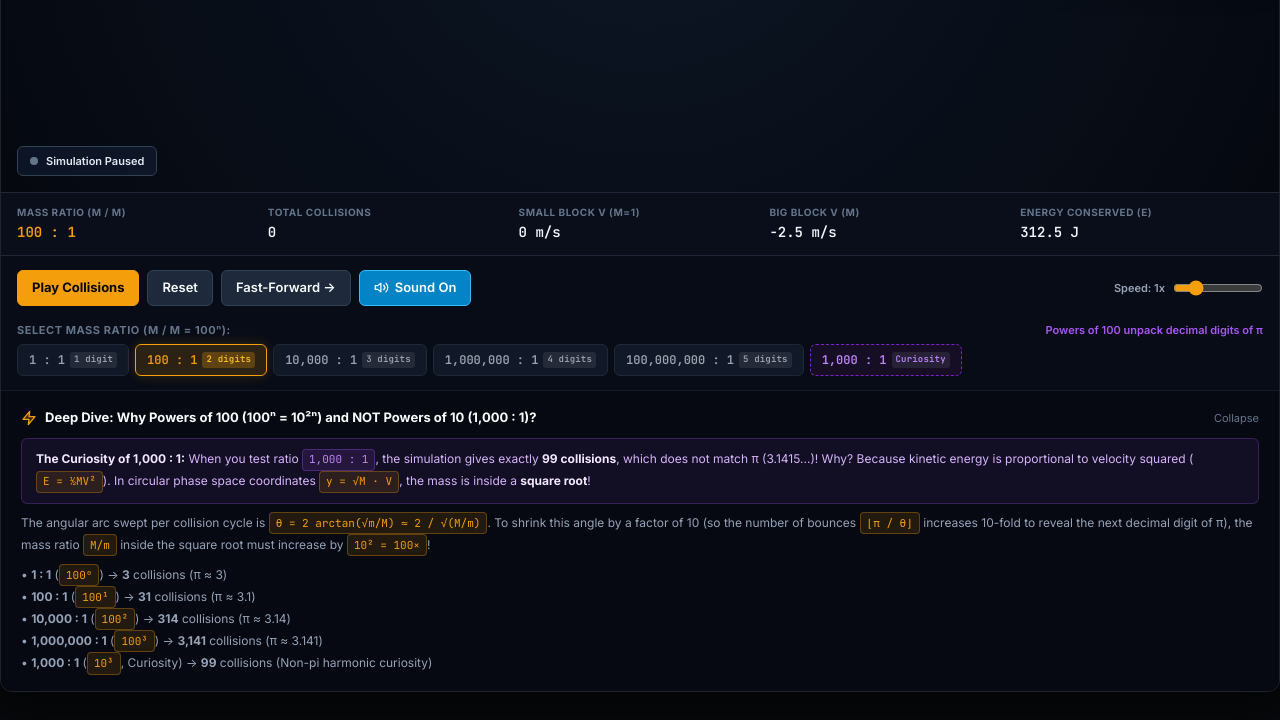
Test: PiCollisions3DLab › fast-forwards smoothly to 3,141 collisions for 1,000,000 : 1
The width and height of the screenshot is (1280, 720).
(page scrolled)
Step 1. Click the button "1,000,000 : 1 4 digits" → (520, 360), box [433,344,608,376]
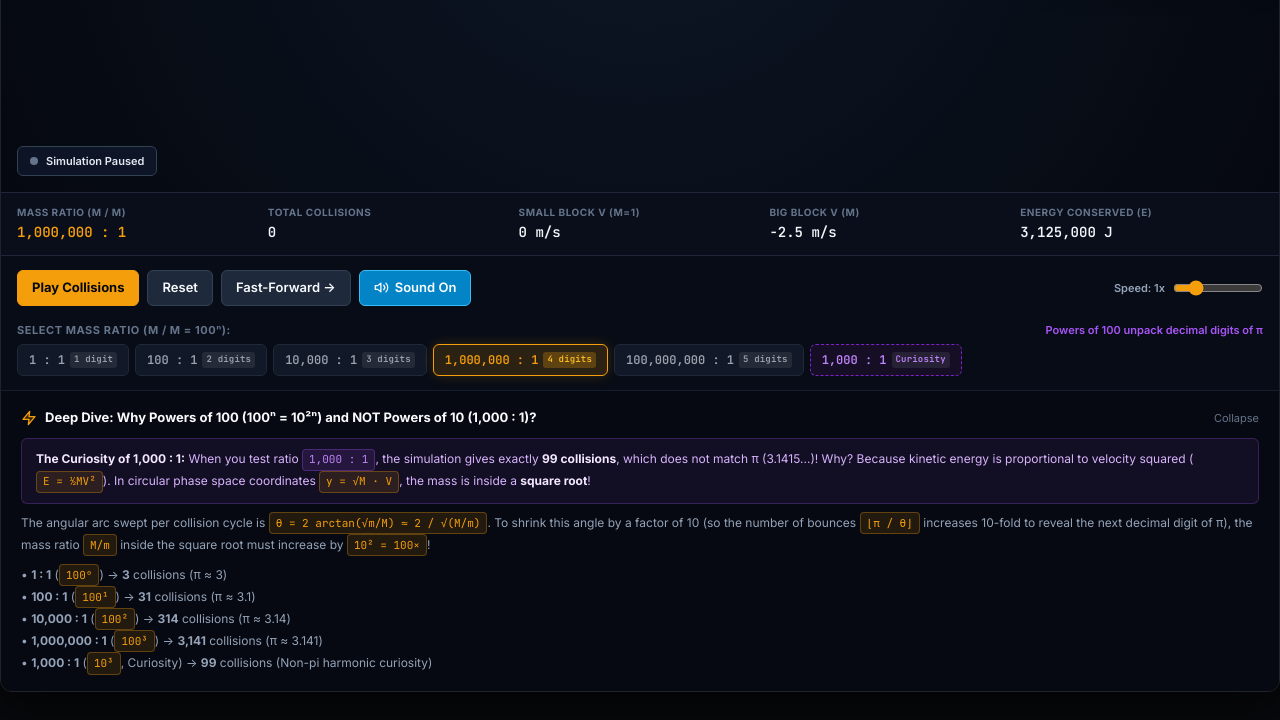
Step 2. Click the button "Fast-Forward →" → (286, 288), box [221,270,351,306]
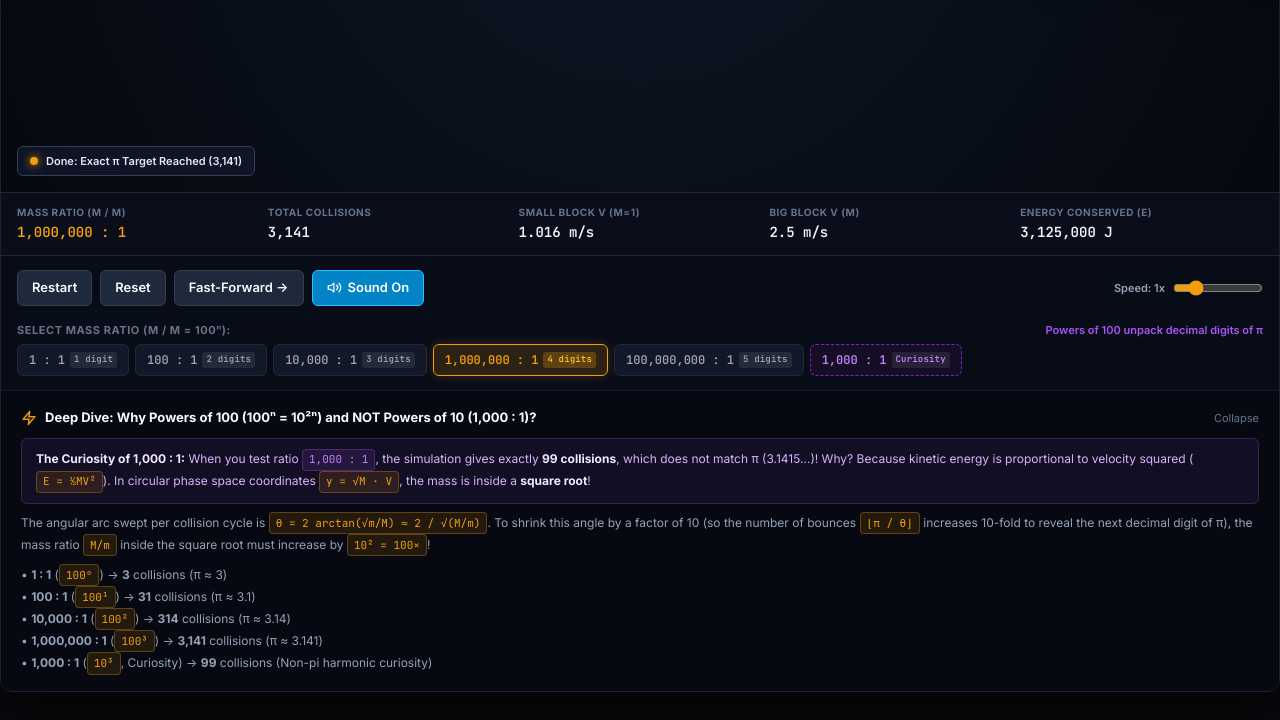
Expected: the text "Done: Exact π Target Reached (3,141)" is shown, [46,152,242,169]
